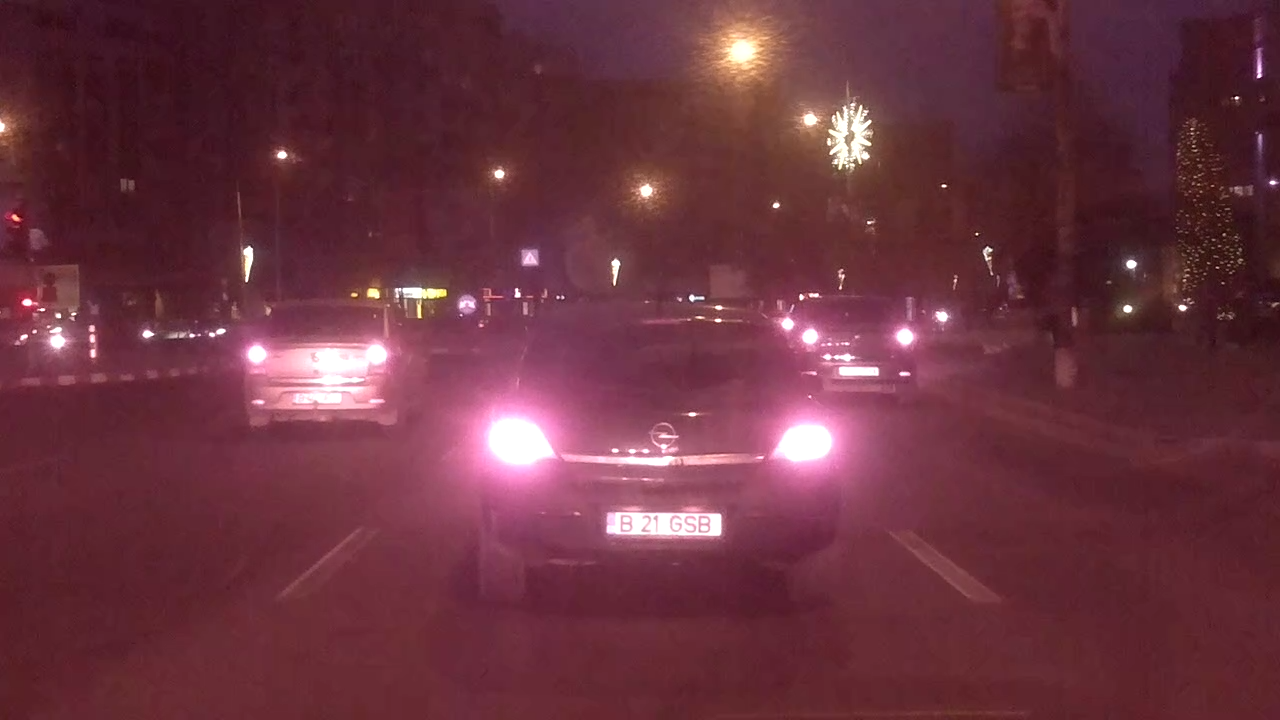license-plate: (601, 506, 726, 540)
